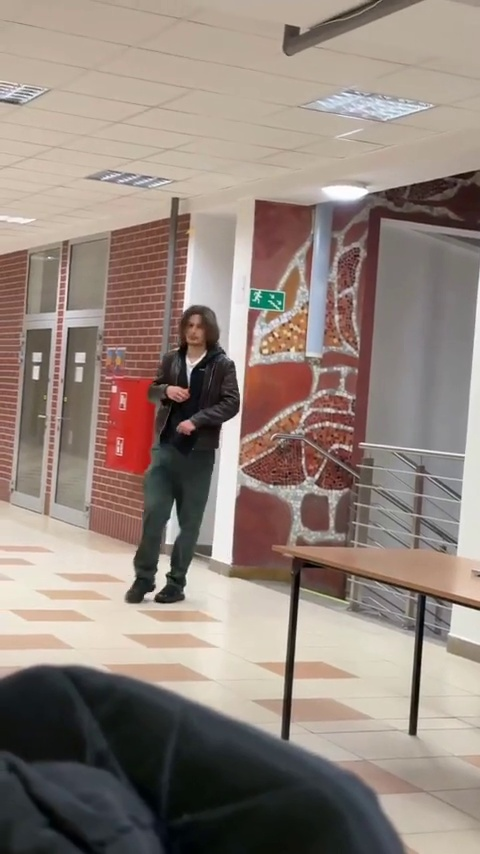no vest: (152, 304, 235, 605)
